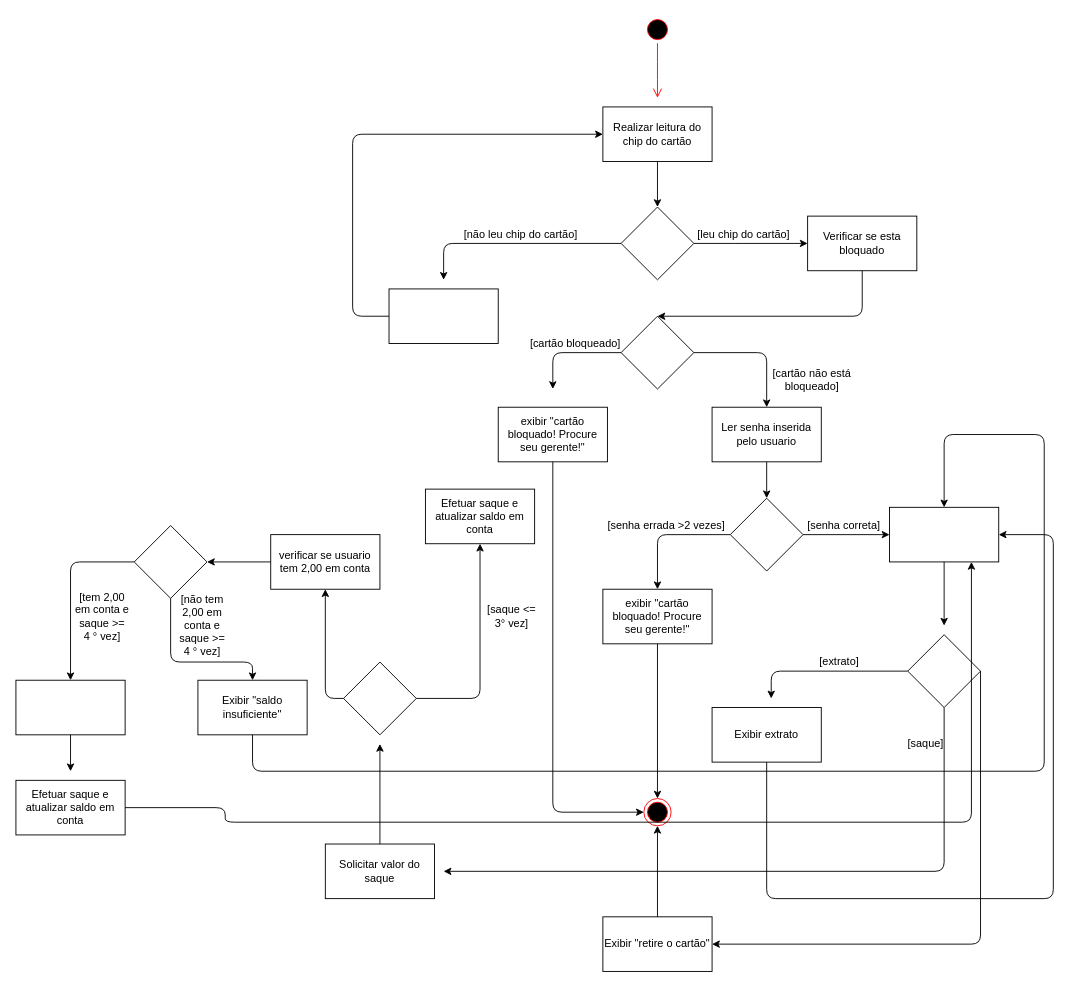
Some shapes in this 1077 by 987 pixel diagram are drawn without their labels. Here are the shapes that lost their labels. From the top down, the box of each, then its label:
(388, 288, 498, 344): Exibir "retire e insira novamente o cartão"
(889, 506, 999, 562): Exibir opções "Extrato, saque ou sair"
(15, 679, 125, 735): Descontar 2,00 da conta
